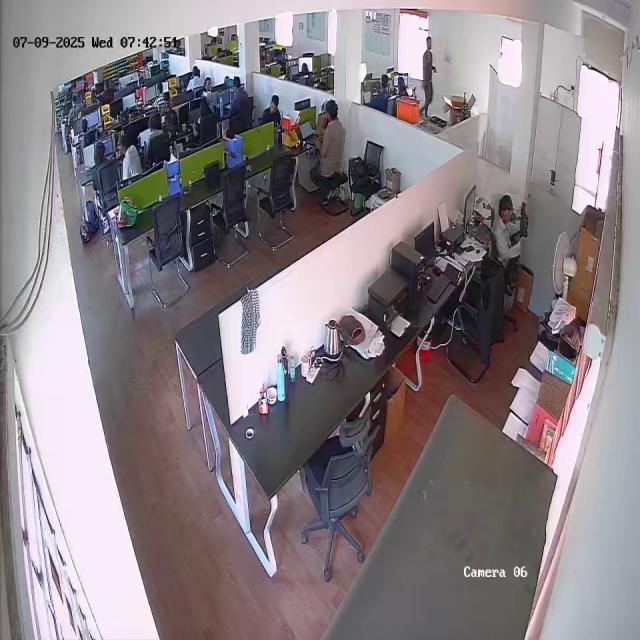person: (318, 98, 349, 178), (490, 194, 521, 259)
